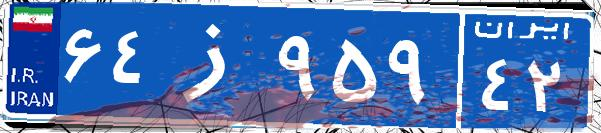2: (525, 38, 570, 115)
4: (475, 38, 525, 113), (110, 28, 158, 105)
5: (330, 28, 385, 110)
6: (57, 26, 110, 107)
9: (385, 28, 445, 110), (273, 28, 330, 110)
ز: (158, 15, 273, 115)
